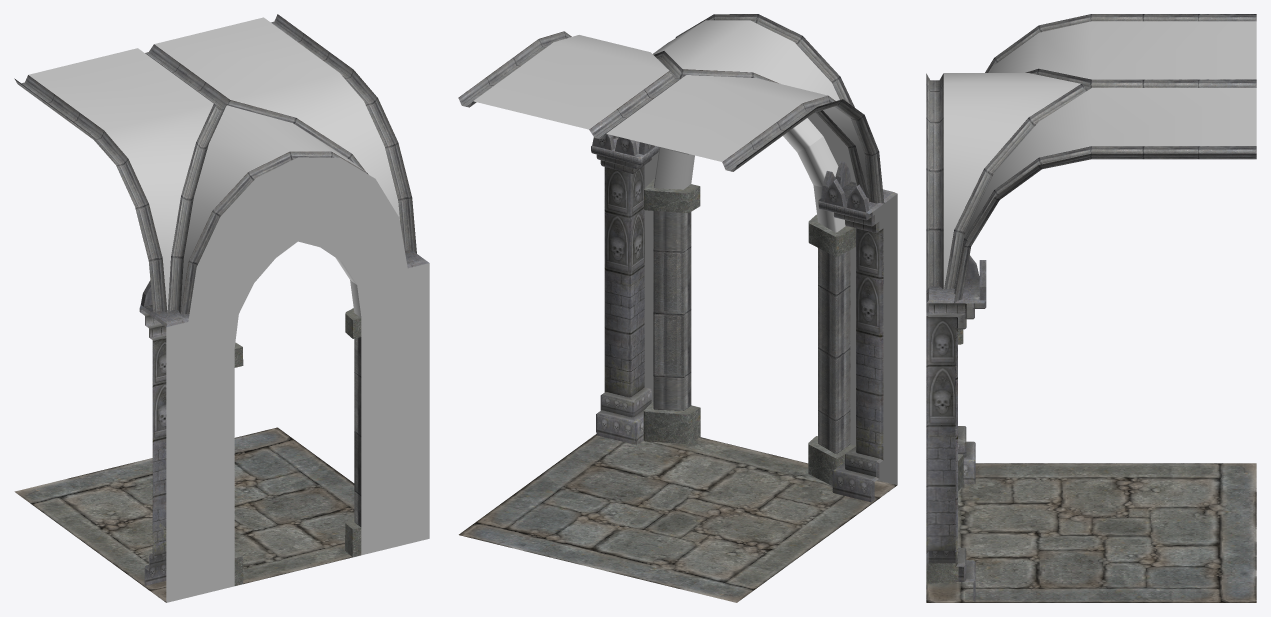
The model's file is Wall_DoorwayBig.FBX.
The picture shows the model from 3 angles, left to right: view 1: azimuth 30°, elevation 25°; view 2: azimuth 150°, elevation 25°; view 3: azimuth 270°, elevation 25°; orthographic projection. The views are drawn at different scales.
Visible parts, largest first — view 1: Wall DoorWay Big; view 2: Wall DoorWay Big; view 3: Wall DoorWay Big.
Boxes of the visible parts, bbox=[...] form: Wall DoorWay Big: bbox=[14, 14, 429, 602]; Wall DoorWay Big: bbox=[458, 14, 897, 602]; Wall DoorWay Big: bbox=[926, 14, 1256, 602].
Size of the model in its own units: 500 by 750 by 500.
